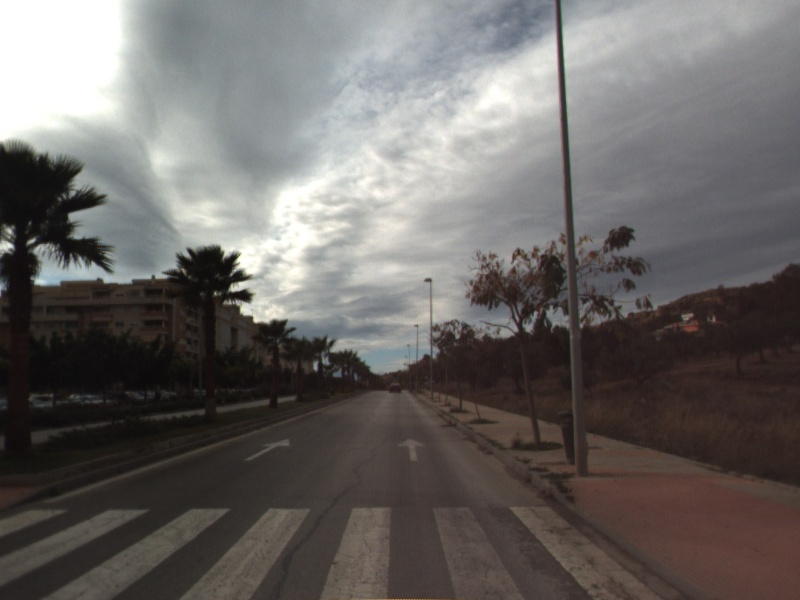STRAIGHT: (241, 436, 292, 463), (396, 435, 428, 463)
